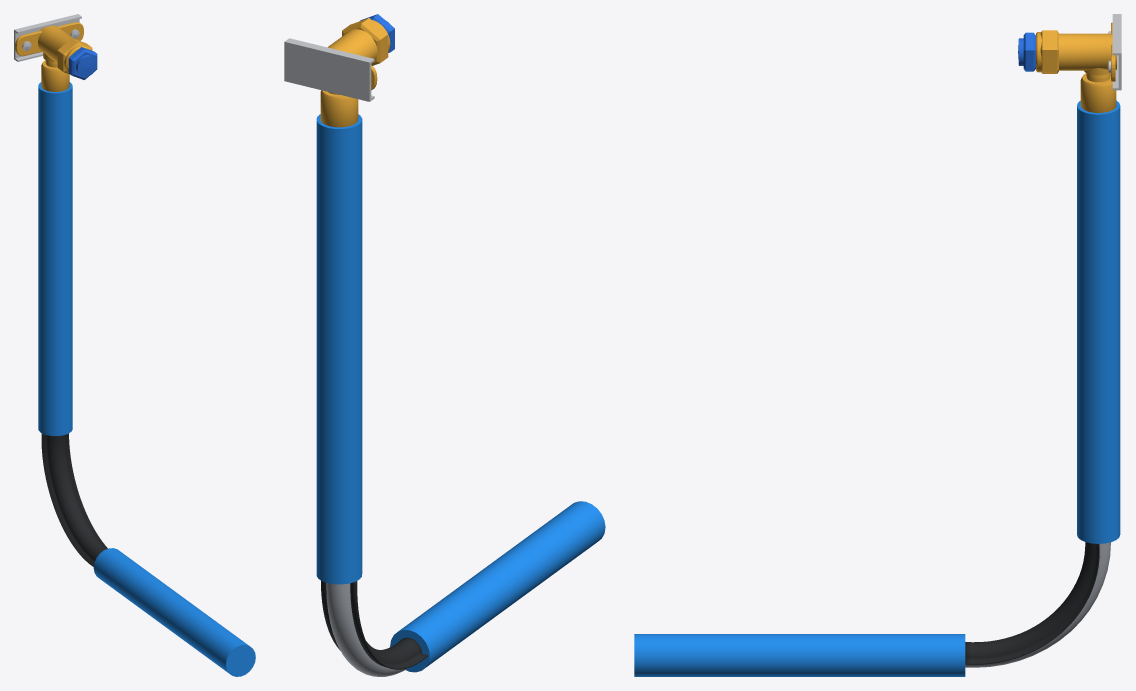
The model's file is water_outlet_single.glb.
The picture shows the model from 3 angles, left to right: view 1: azimuth 30°, elevation 25°; view 2: azimuth 150°, elevation 25°; view 3: azimuth 270°, elevation 25°; orthographic projection. The views are drawn at different scales.
Visible parts, largest first — view 1: изоляция 18/6, изоляция 18/6.001, фиксатор 90, корпус, ушко, гильза, пробка, шестигранник гнезда, отбортовка.001; view 2: изоляция 18/6, изоляция 18/6.001, планка, труба PEX 16, фиксатор 90, гильза, корпус, шестигранник гнезда, отбортовка.001; view 3: изоляция 18/6, изоляция 18/6.001, фиксатор 90, корпус, труба PEX 16, гильза, шестигранник гнезда.
Boxes of the visible parts, box(x1,y1,x2,y2) form: изоляция 18/6: box(38, 82, 72, 435); изоляция 18/6.001: box(93, 548, 255, 676); фиксатор 90: box(41, 433, 107, 566); корпус: box(38, 25, 90, 72); ушко: box(15, 22, 83, 55); гильза: box(41, 60, 69, 91); пробка: box(68, 47, 97, 79); шестигранник гнезда: box(57, 38, 92, 74); отбортовка.001: box(14, 14, 81, 33); изоляция 18/6: box(316, 114, 362, 584); изоляция 18/6.001: box(390, 501, 605, 672); планка: box(284, 43, 371, 100); труба PEX 16: box(326, 583, 407, 676); фиксатор 90: box(321, 580, 427, 669); гильза: box(320, 90, 358, 127); корпус: box(327, 19, 390, 59); шестигранник гнезда: box(342, 18, 388, 65); отбортовка.001: box(284, 38, 374, 63); изоляция 18/6: box(1077, 100, 1120, 543); изоляция 18/6.001: box(634, 634, 965, 676); фиксатор 90: box(965, 542, 1099, 664); корпус: box(1036, 32, 1116, 72); труба PEX 16: box(965, 542, 1110, 667); гильза: box(1080, 73, 1116, 112); шестигранник гнезда: box(1040, 30, 1058, 73).
Bounding box in the file's own units: 0.063 × 0.4596 × 0.315.
